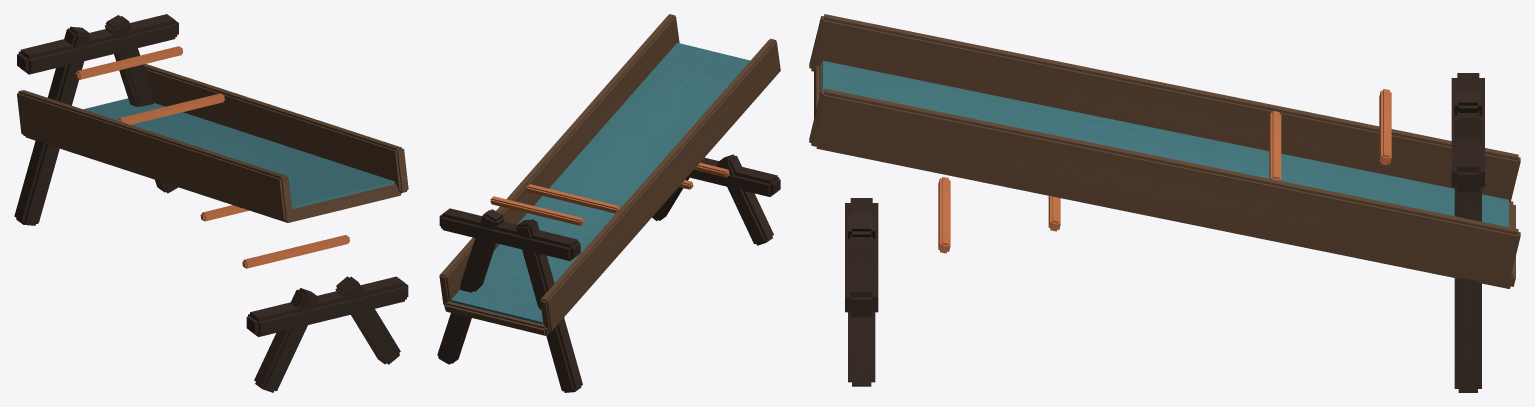
File: water_flume_sluice.glb
The picture shows the model from 3 angles, left to right: view 1: azimuth 30°, elevation 25°; view 2: azimuth 150°, elevation 25°; view 3: azimuth 270°, elevation 25°; orthographic projection. The views are drawn at different scales.
Parts seen in each view (by area): view 1: water_flume_sluice; view 2: water_flume_sluice; view 3: water_flume_sluice.
Part boxes in pixels (x1,y1,x2,y2): water_flume_sluice: (14,14,408,392); water_flume_sluice: (437,14,780,392); water_flume_sluice: (809,14,1520,392).
Bounding box in the file's own units: 0.8863 × 1.19 × 2.58.
Materials: 1 (1 with a texture image).
